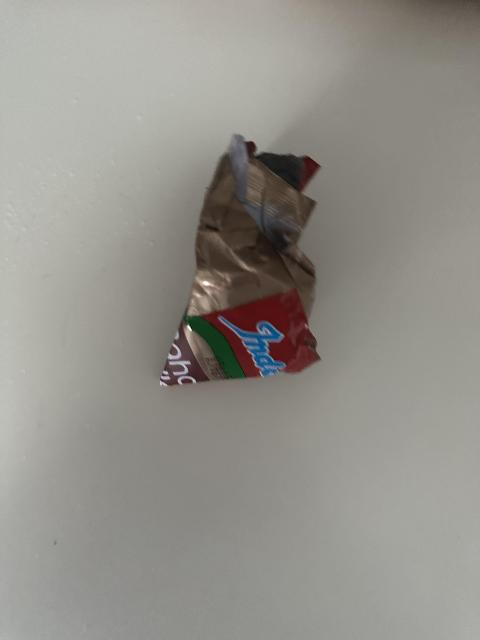Plastik: (148, 135, 335, 397)
